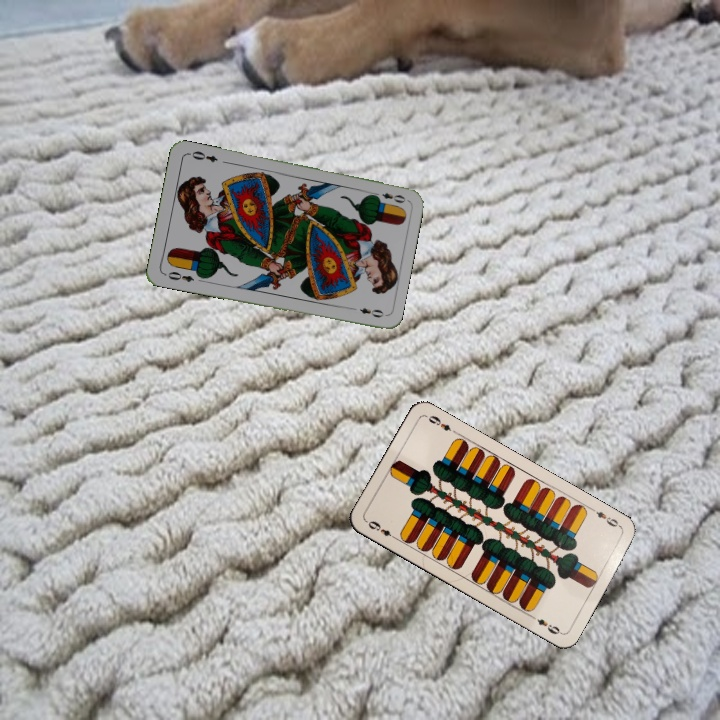E9: (587, 504, 624, 530), (364, 517, 400, 543)
EO: (368, 188, 408, 206), (161, 267, 196, 285)
